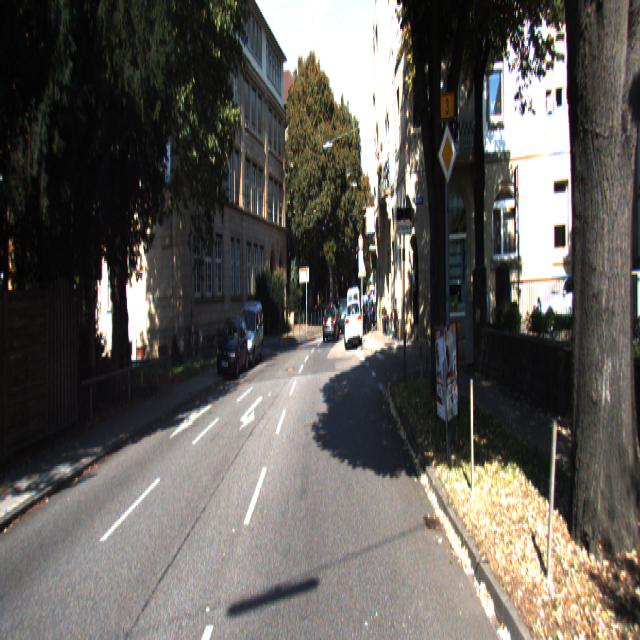Car: (530, 272, 588, 334), (214, 314, 250, 382), (235, 300, 264, 371), (344, 298, 362, 352), (322, 303, 340, 344)
